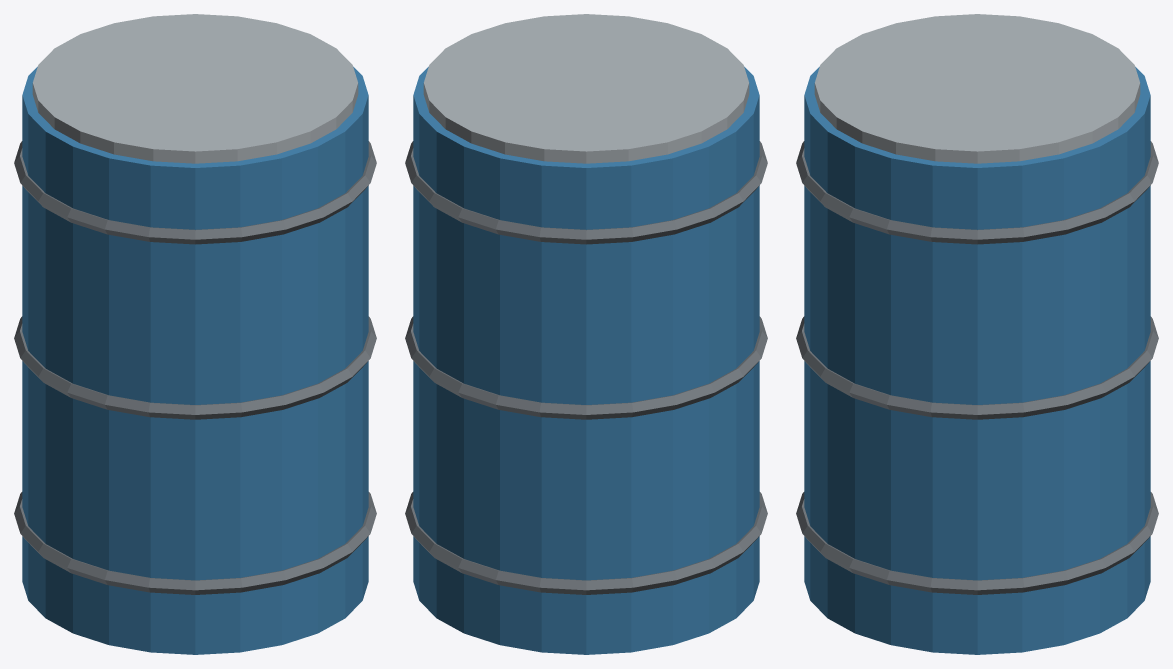
Rendered from drum.glb.
3 renders of one model, left to right at view 1: azimuth 30°, elevation 25°; view 2: azimuth 150°, elevation 25°; view 3: azimuth 270°, elevation 25°, orthographic.
Visible parts, largest first — view 1: ForgeCore item; view 2: ForgeCore item; view 3: ForgeCore item.
Part boxes in pixels (x1=…): ForgeCore item: x1=14, y1=14, x2=376, y2=654; ForgeCore item: x1=405, y1=14, x2=767, y2=654; ForgeCore item: x1=796, y1=14, x2=1158, y2=654.
Bounding box in the file's own units: 0.6078 × 0.9225 × 0.6078.
